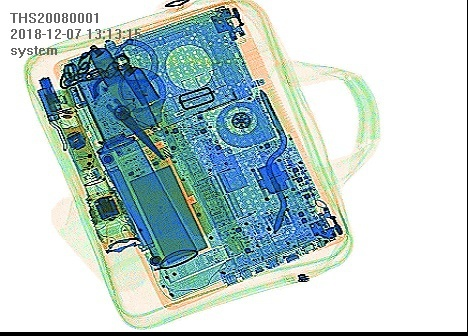handcuffs: (109, 37, 167, 127)
pressure: (94, 130, 197, 269)
scissors: (86, 75, 164, 160)
